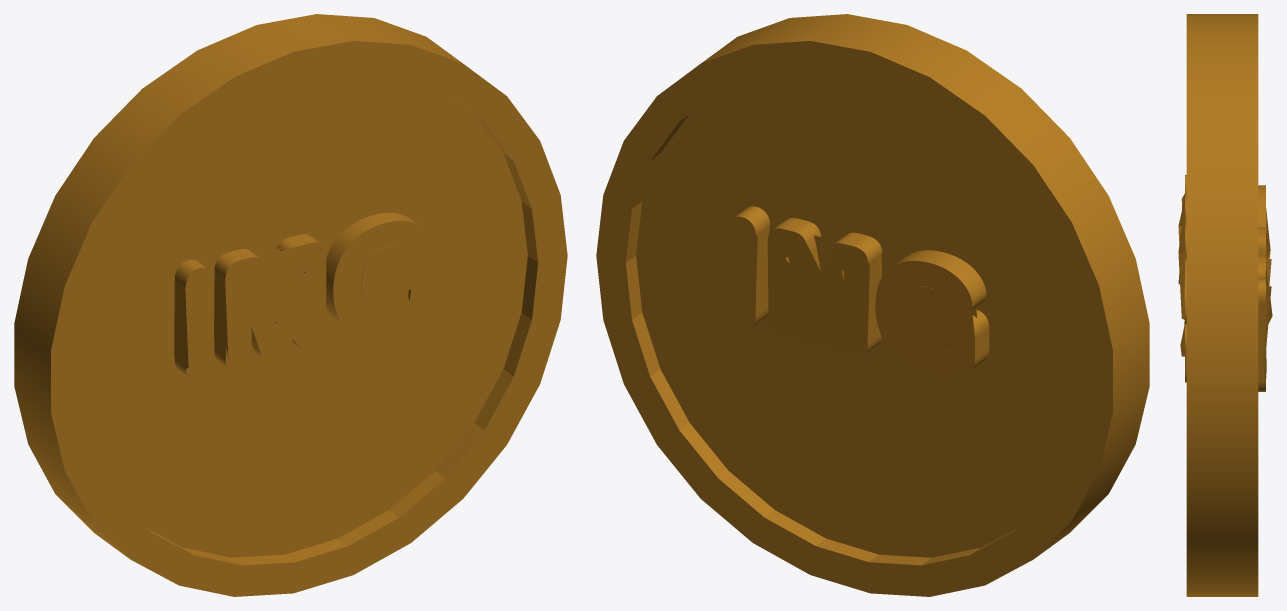
File: coin_img.FBX
3 views of the same model, side by side, from view 1: azimuth 30°, elevation 25°; view 2: azimuth 150°, elevation 25°; view 3: azimuth 270°, elevation 25° (orthographic). The views are drawn at different scales.
Visible parts, largest first — view 1: Cylinder001; view 2: Cylinder001; view 3: Cylinder001.
Part boxes in pixels (<box>): Cylinder001: <box>14,14,567,596</box>; Cylinder001: <box>596,14,1149,596</box>; Cylinder001: <box>1178,14,1272,596</box>.
Size of the model in its own units: 63.1 by 63.21 by 10.2.
